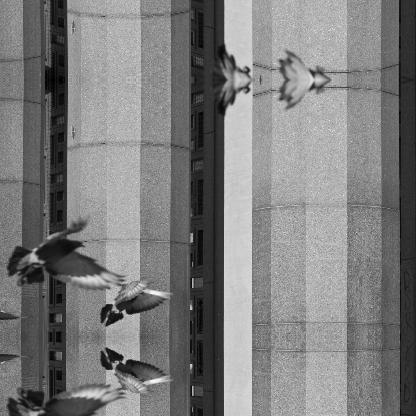Bird: (3, 210, 131, 292), (3, 380, 131, 415)
